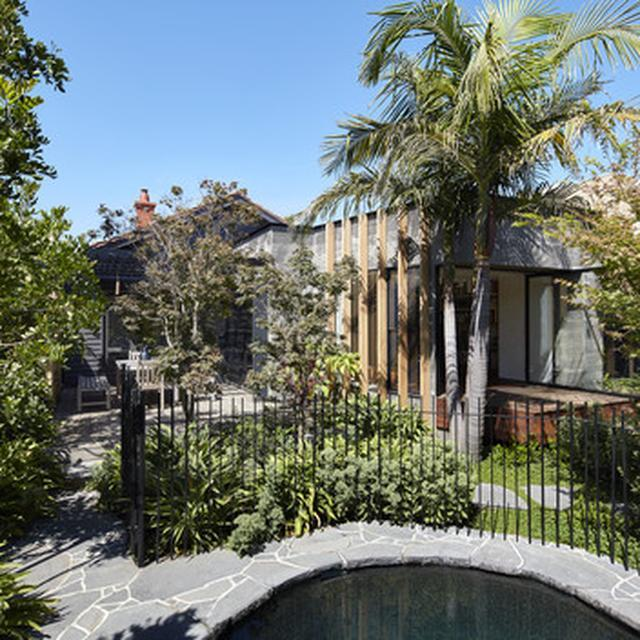building: (74, 169, 640, 447)
